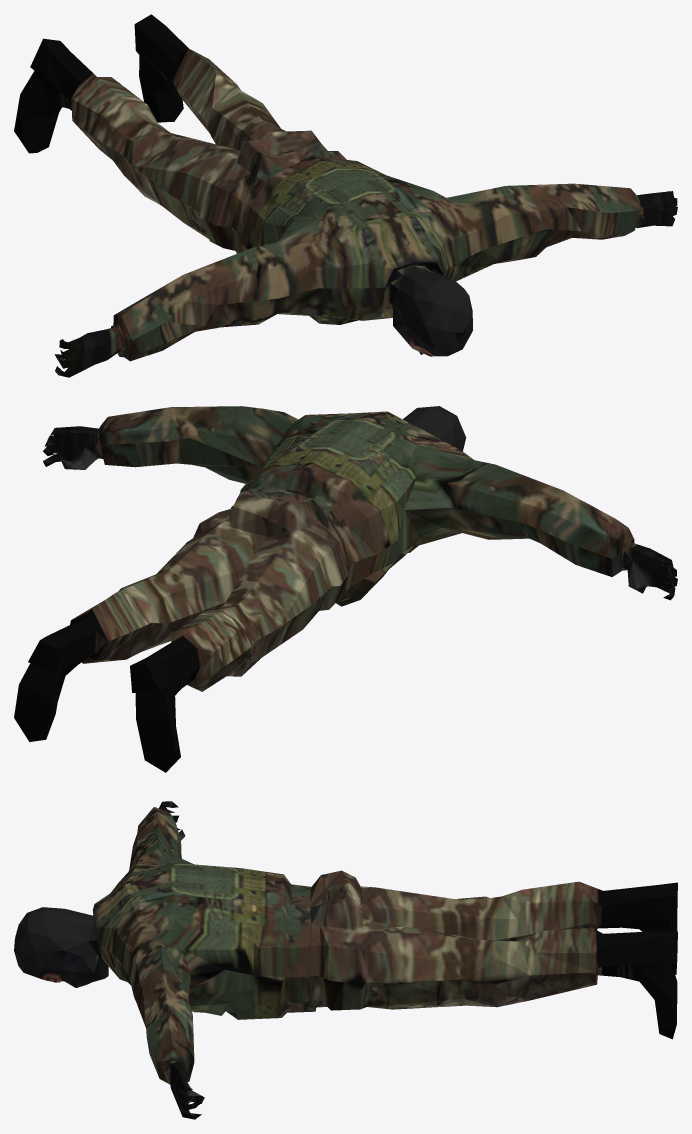
The model's file is soldiersol1kTB_wtf.obj.
3 renders of one model, top to bottom at view 1: azimuth 30°, elevation 25°; view 2: azimuth 150°, elevation 25°; view 3: azimuth 270°, elevation 25°, orthographic. The views are drawn at different scales.
Parts seen in each view (by area): view 1: group1; view 2: group1; view 3: group1.
Boxes of the visible parts, <box> form: group1: <box>14,14,677,377</box>; group1: <box>14,406,677,772</box>; group1: <box>14,801,677,1119</box>.
Bounding box in the file's own units: 660 × 146 × 654.
